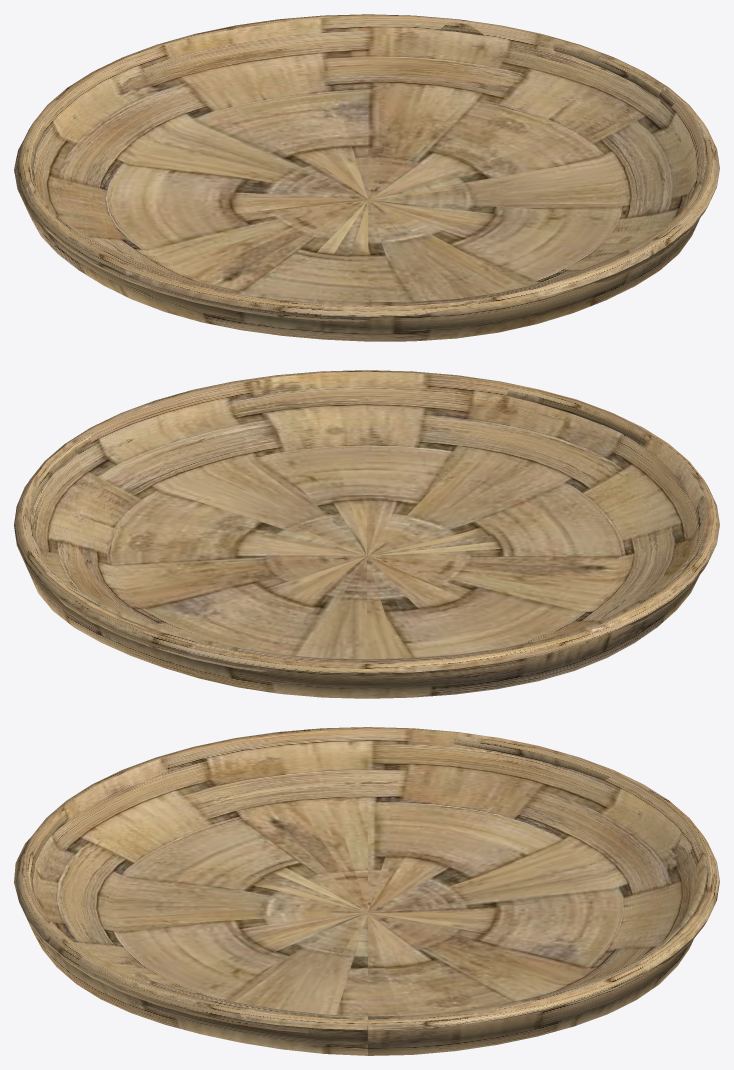
Rendered from prop_kula.glb.
3 views of the same model, one above another, from view 1: azimuth 30°, elevation 25°; view 2: azimuth 150°, elevation 25°; view 3: azimuth 270°, elevation 25° (orthographic).
Visible parts, largest first — view 1: prop_kula; view 2: prop_kula; view 3: prop_kula.
Boxes of the visible parts, bbox=[...] form: prop_kula: bbox=[14, 14, 719, 341]; prop_kula: bbox=[14, 370, 719, 698]; prop_kula: bbox=[14, 727, 719, 1055].
Size of the model in its own units: 0.5 by 0.045 by 0.5.
1 material, 1 textured.
